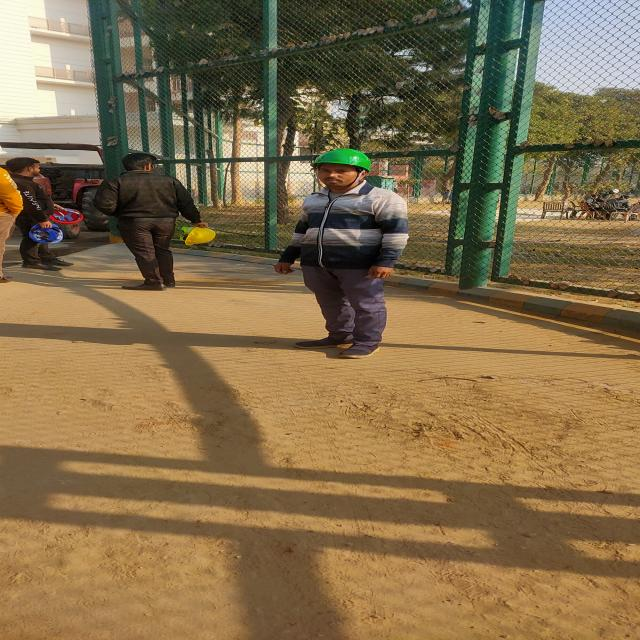no jacket: (274, 147, 414, 362)
unsafe: (96, 153, 217, 292), (8, 156, 88, 274), (606, 194, 632, 212), (582, 194, 600, 211), (598, 189, 619, 201)
